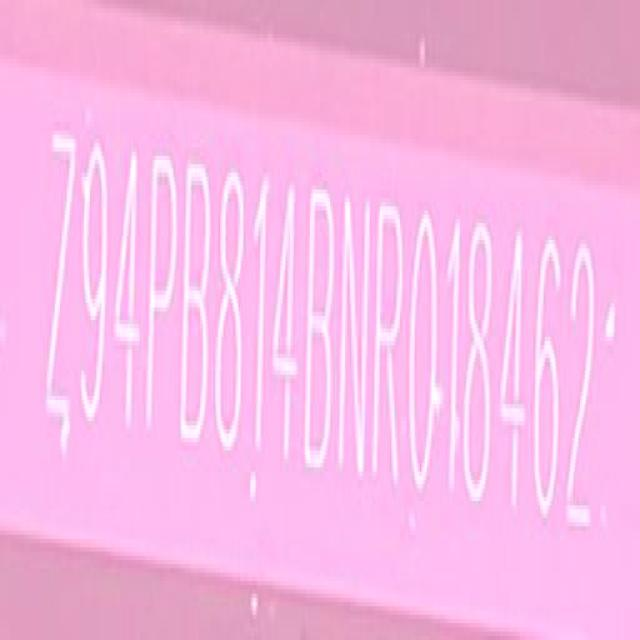0: (407, 200, 438, 498)
1: (250, 178, 271, 452), (443, 215, 462, 490)
2: (565, 236, 599, 530)
4: (114, 145, 143, 434), (498, 231, 526, 519), (274, 189, 300, 460)
6: (533, 230, 566, 522)
8: (216, 176, 247, 449), (464, 218, 492, 507)
9: (81, 140, 109, 429)
B: (303, 186, 335, 471), (182, 165, 208, 446)
N: (339, 195, 371, 482)
P: (147, 143, 176, 429)
R: (372, 200, 404, 477)
Z: (46, 132, 74, 434)
